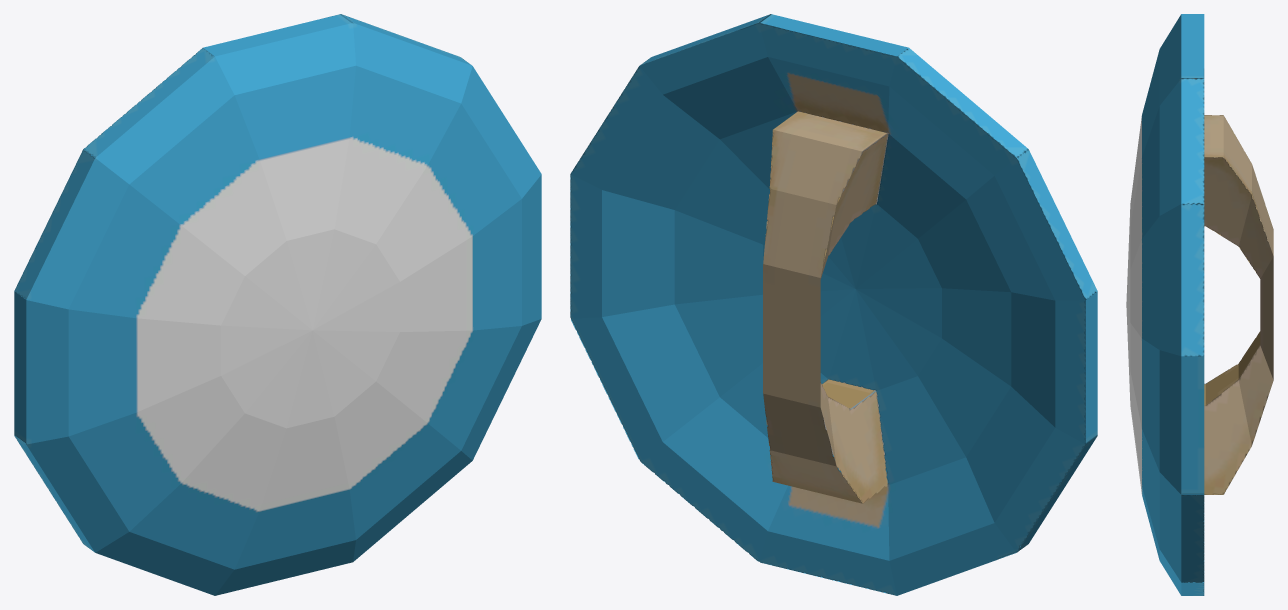
The model's file is FrisbeeShield_Blue.fbx.
3 renders of one model, left to right at view 1: azimuth 30°, elevation 25°; view 2: azimuth 150°, elevation 25°; view 3: azimuth 270°, elevation 25°, orthographic. The views are drawn at different scales.
Visible parts, largest first — view 1: Sphere; view 2: Sphere; view 3: Sphere.
Part boxes in pixels (x1,y1,x2,y2): Sphere: [14, 14, 541, 595]; Sphere: [570, 14, 1097, 595]; Sphere: [1126, 14, 1273, 595].
Size of the model in its own units: 71.34 by 71.34 by 18.4.
